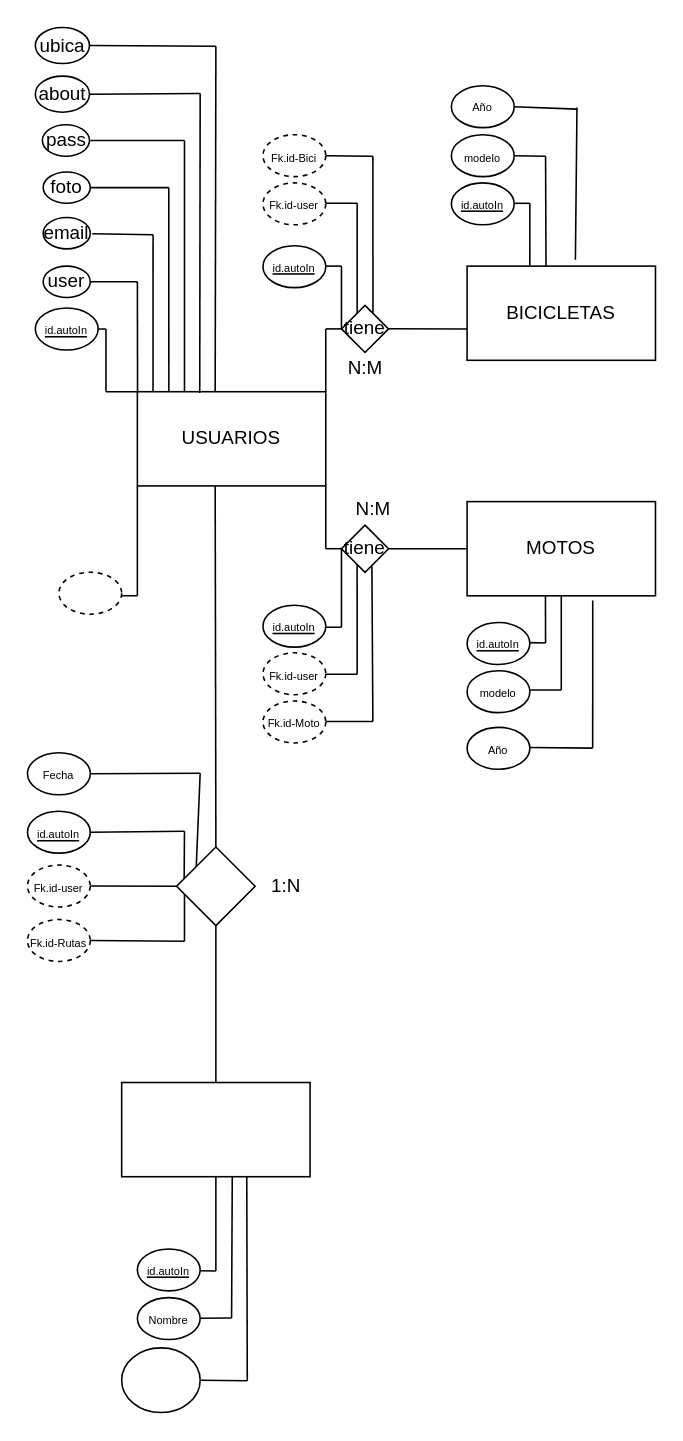
Image size: 683x1441. Some labels were removed from this diagram. The centre of each missing label's shape, as x and y in pixels:
FK.id-log: (89,592)
Hace: (215,885)
Localización: (160,1379)
RUTAS: (215,1129)
